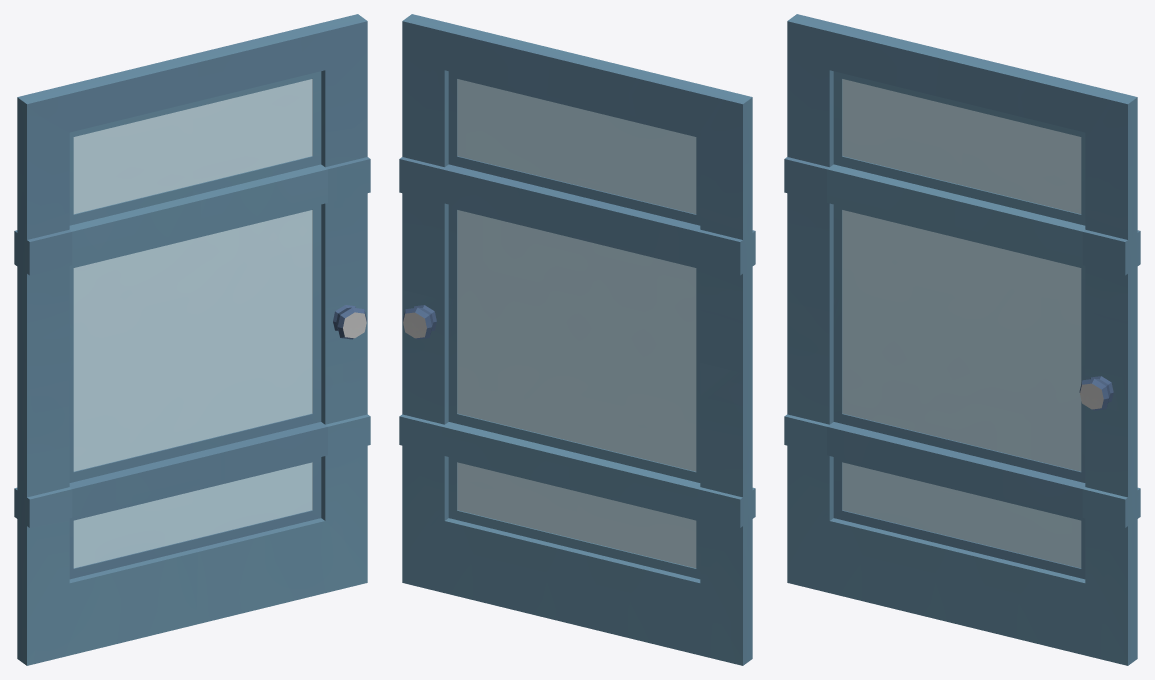
The model's file is door_1.obj.
3 views of the same model, side by side, from view 1: azimuth 30°, elevation 25°; view 2: azimuth 150°, elevation 25°; view 3: azimuth 330°, elevation 25° (orthographic).
Visible parts, largest first — view 1: door_1_Material; view 2: door_1_Material; view 3: door_1_Material.
Boxes of the visible parts, bbox=[...] form: door_1_Material: bbox=[14, 14, 370, 665]; door_1_Material: bbox=[399, 14, 755, 665]; door_1_Material: bbox=[784, 14, 1140, 665].
Bounding box in the file's own units: 1 × 1.58 × 0.1689.
